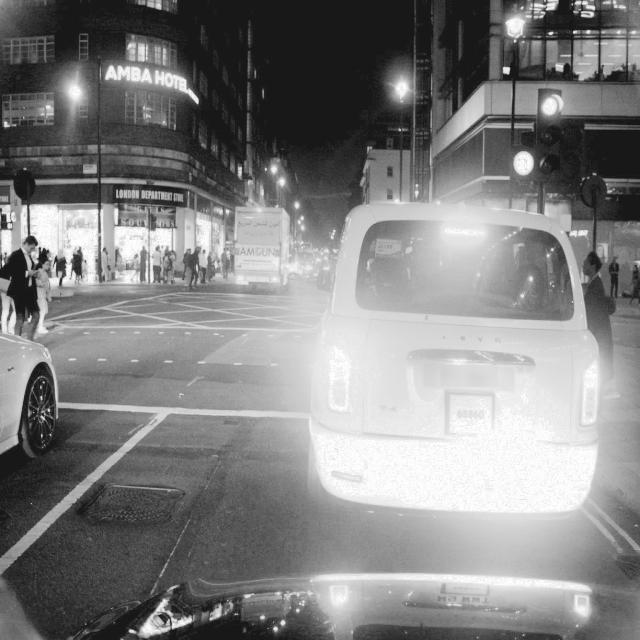Car: (306, 204, 603, 526), (0, 328, 53, 456)
Truck: (234, 207, 293, 293)
